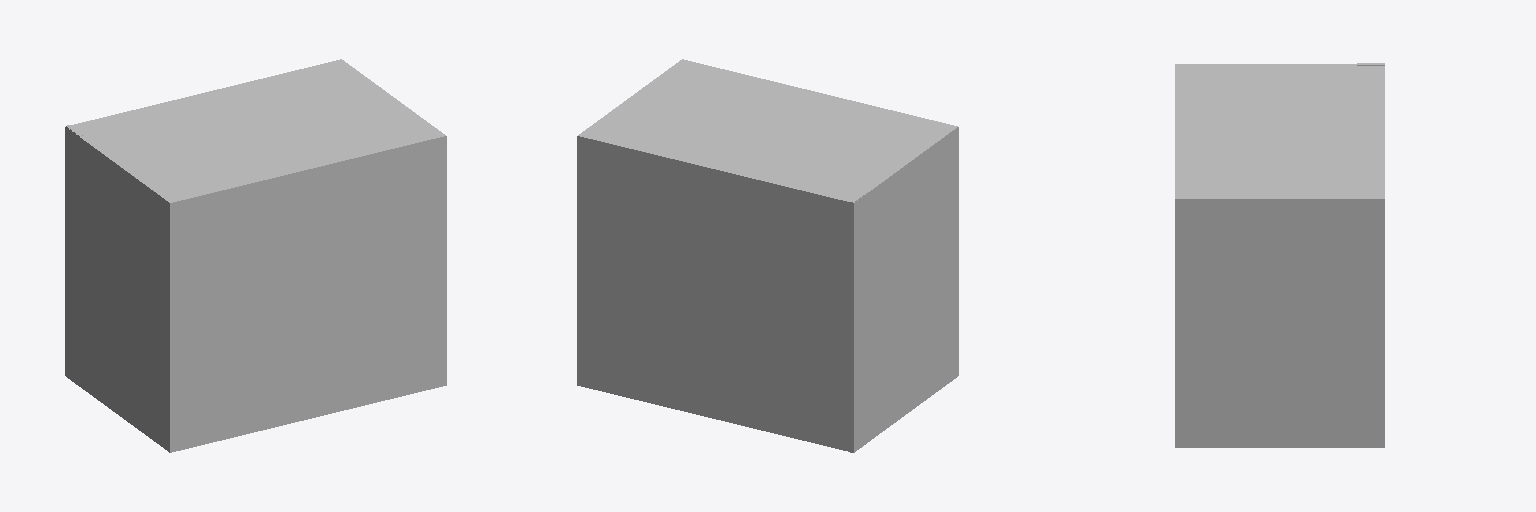
File: bin.obj
3 renders of one model, left to right at view 1: azimuth 30°, elevation 25°; view 2: azimuth 150°, elevation 25°; view 3: azimuth 270°, elevation 25°, orthographic.
Visible parts, largest first — view 1: bin; view 2: bin; view 3: bin.
Part boxes in pixels (x1,y1,x2,y2): bin: (65, 59, 446, 452); bin: (577, 59, 958, 452); bin: (1175, 63, 1384, 447).
Bounding box in the file's own units: 0.3677 × 0.3189 × 0.2413.